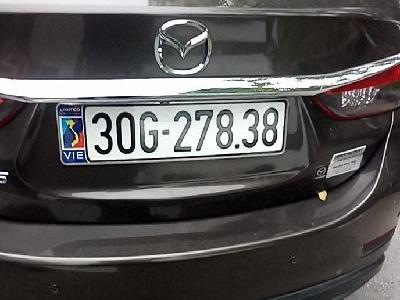car: (55, 100, 294, 166)
